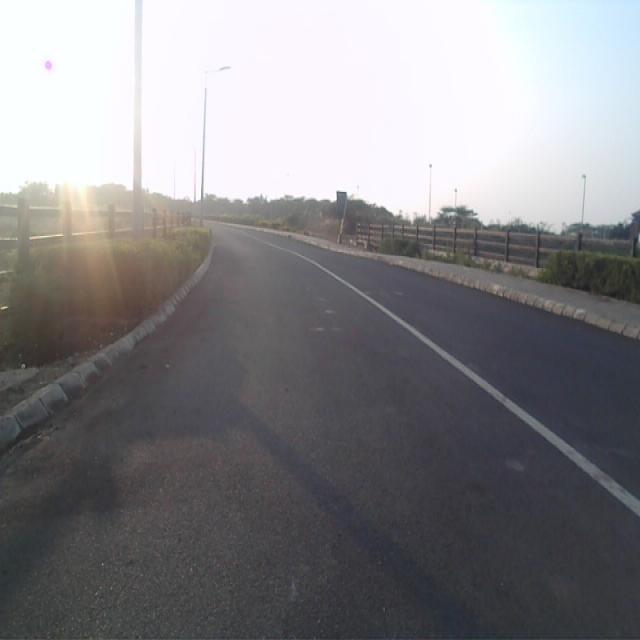lane: (0, 237, 640, 640)
